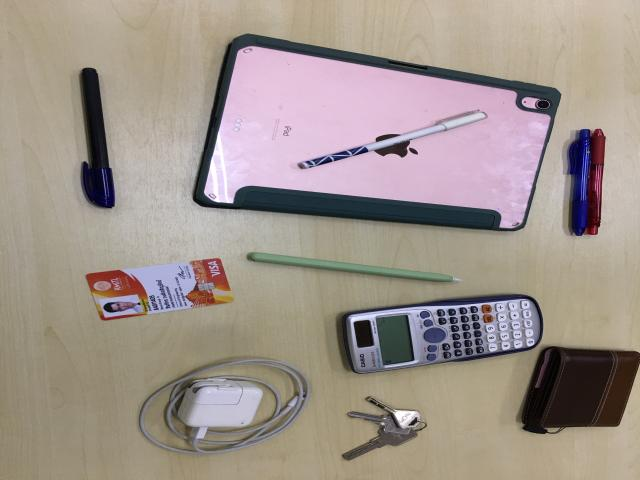Keys: (343, 397, 432, 462)
Pen: (296, 110, 488, 170), (78, 69, 115, 210), (568, 130, 605, 239)
Wallet: (518, 347, 640, 435)
wire: (157, 362, 302, 455)
